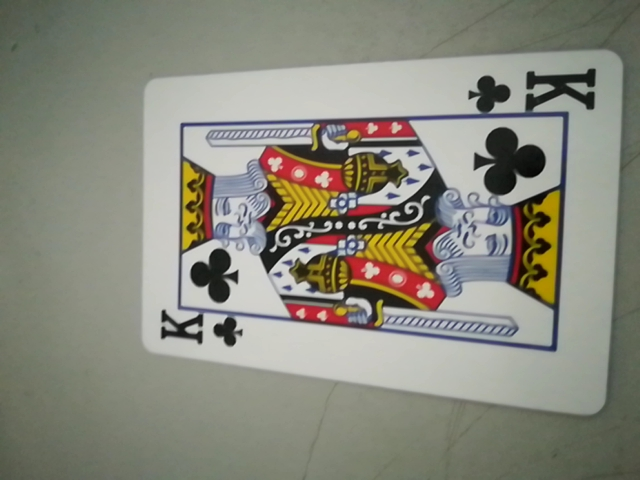mh k: (467, 65, 599, 119), (153, 304, 246, 355)
